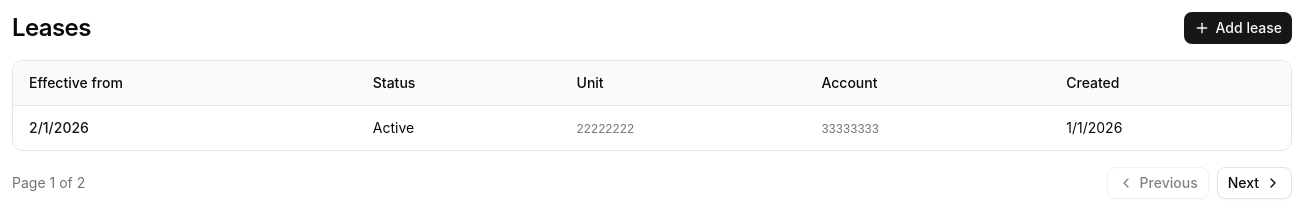
it: LeasesPage › pages through the list by offset
This screenshot has width=1304, height=216.
expect the text "Page 1 of 2" is shown: met, box [12,173,85,193]
expect the button "Previous" is disabled: met, box [1107,167,1209,199]
Click the button "Next".
click(1254, 183)  # box [1217,167,1292,199]
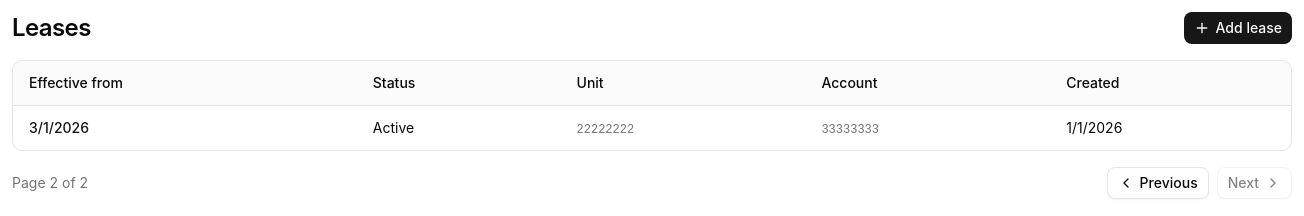
expect the text "Page 2 of 2" is shown: met, box [12,173,88,193]
expect the button "Next" is disabled: met, box [1217,167,1292,199]
